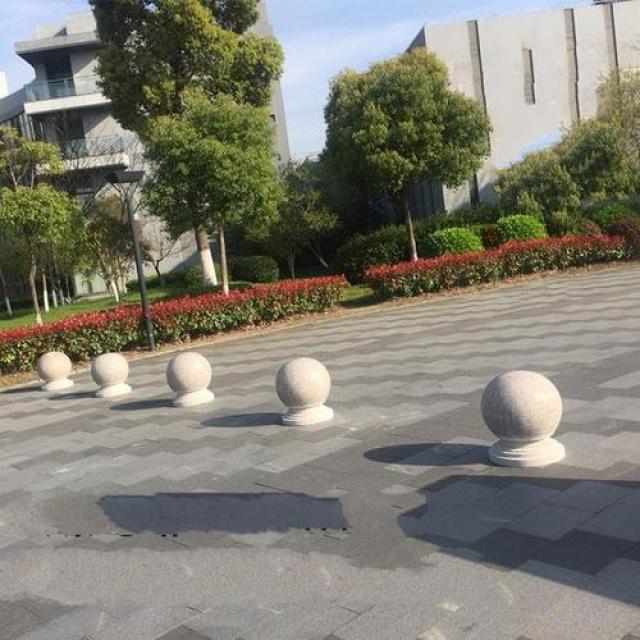pole: (126, 202, 156, 348)
spherical_roadblock: (478, 367, 564, 466), (272, 356, 332, 424), (164, 349, 216, 406), (90, 350, 132, 396), (36, 350, 72, 389)
